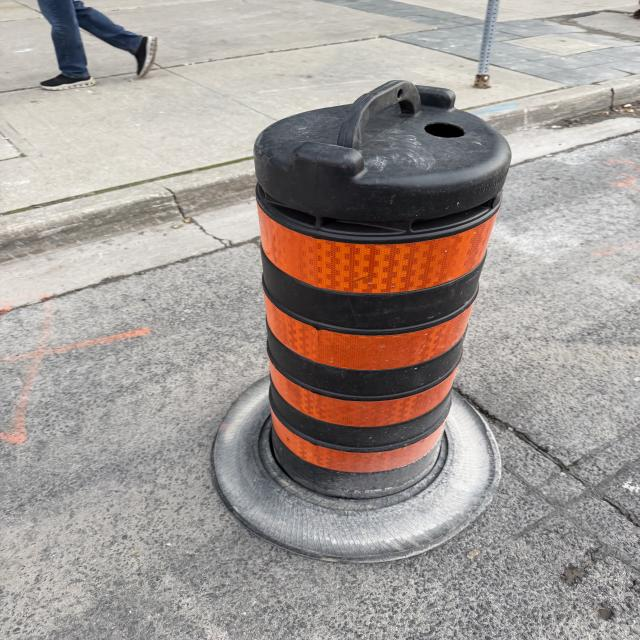Teraffic Barrel: (214, 81, 511, 555)
